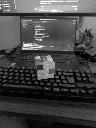rubik: (34, 54, 56, 80)
